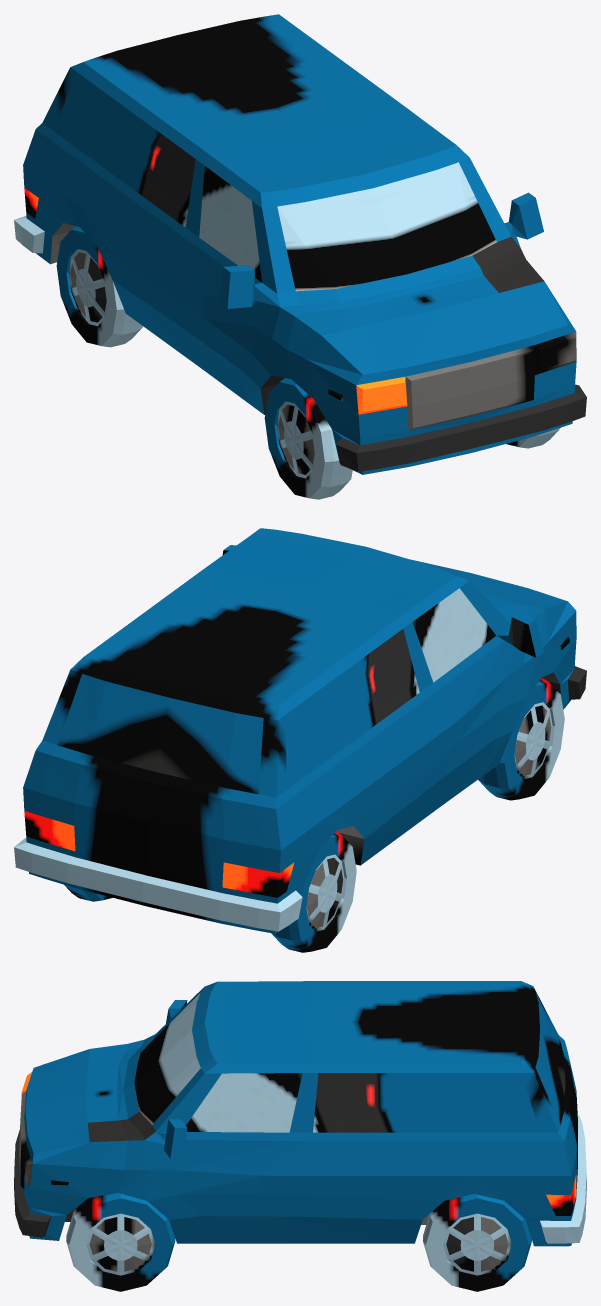
File: citypack-van-L2.glb
3 views of the same model, one above another, from view 1: azimuth 30°, elevation 25°; view 2: azimuth 150°, elevation 25°; view 3: azimuth 270°, elevation 25° (orthographic). The views are drawn at different scales.
Parts seen in each view (by area): view 1: body; view 2: body; view 3: body.
Part boxes in pixels (bbox=[...]): body: bbox=[14, 14, 586, 499]; body: bbox=[14, 528, 586, 952]; body: bbox=[14, 981, 586, 1291].
Bounding box in the file's own units: 43.89 × 34.33 × 80.23.
Materials: 1 (1 with a texture image).
